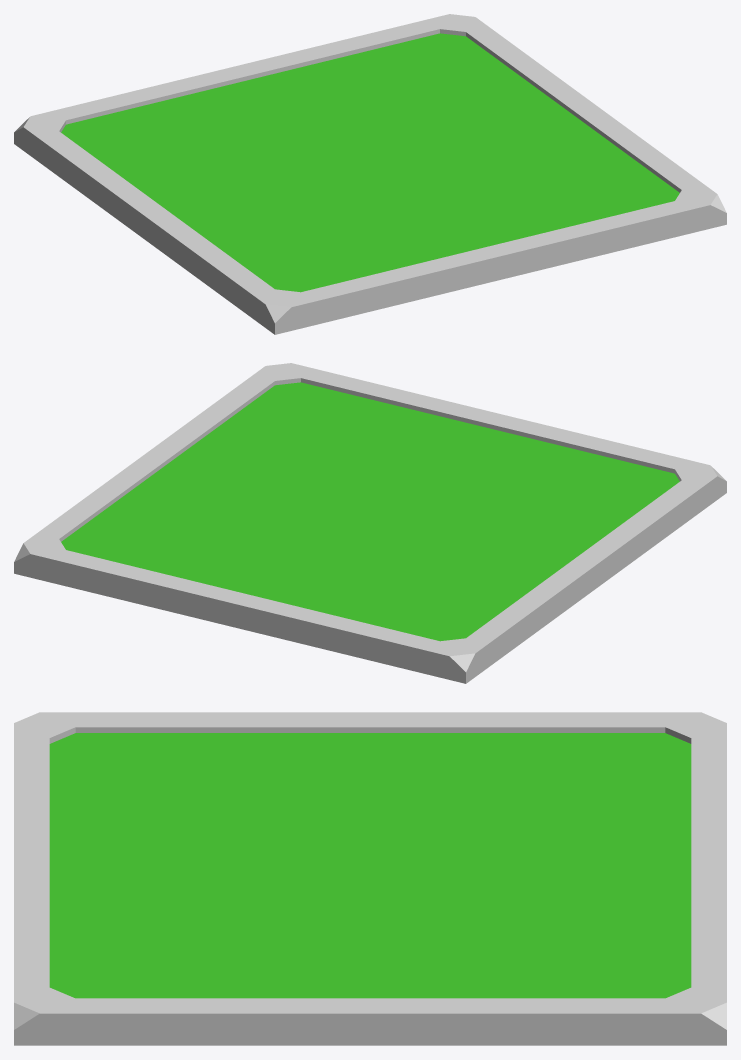
Rendered from Garden01.fbx.
3 renders of one model, top to bottom at view 1: azimuth 30°, elevation 25°; view 2: azimuth 150°, elevation 25°; view 3: azimuth 270°, elevation 25°, orthographic. The views are drawn at different scales.
Parts seen in each view (by area): view 1: Cube.005; view 2: Cube.005; view 3: Cube.005.
Part boxes in pixels (<box>): Cube.005: <box>14,14,726,334</box>; Cube.005: <box>14,363,726,683</box>; Cube.005: <box>14,712,726,1045</box>.
Size of the model in its own units: 200 by 10 by 200.
